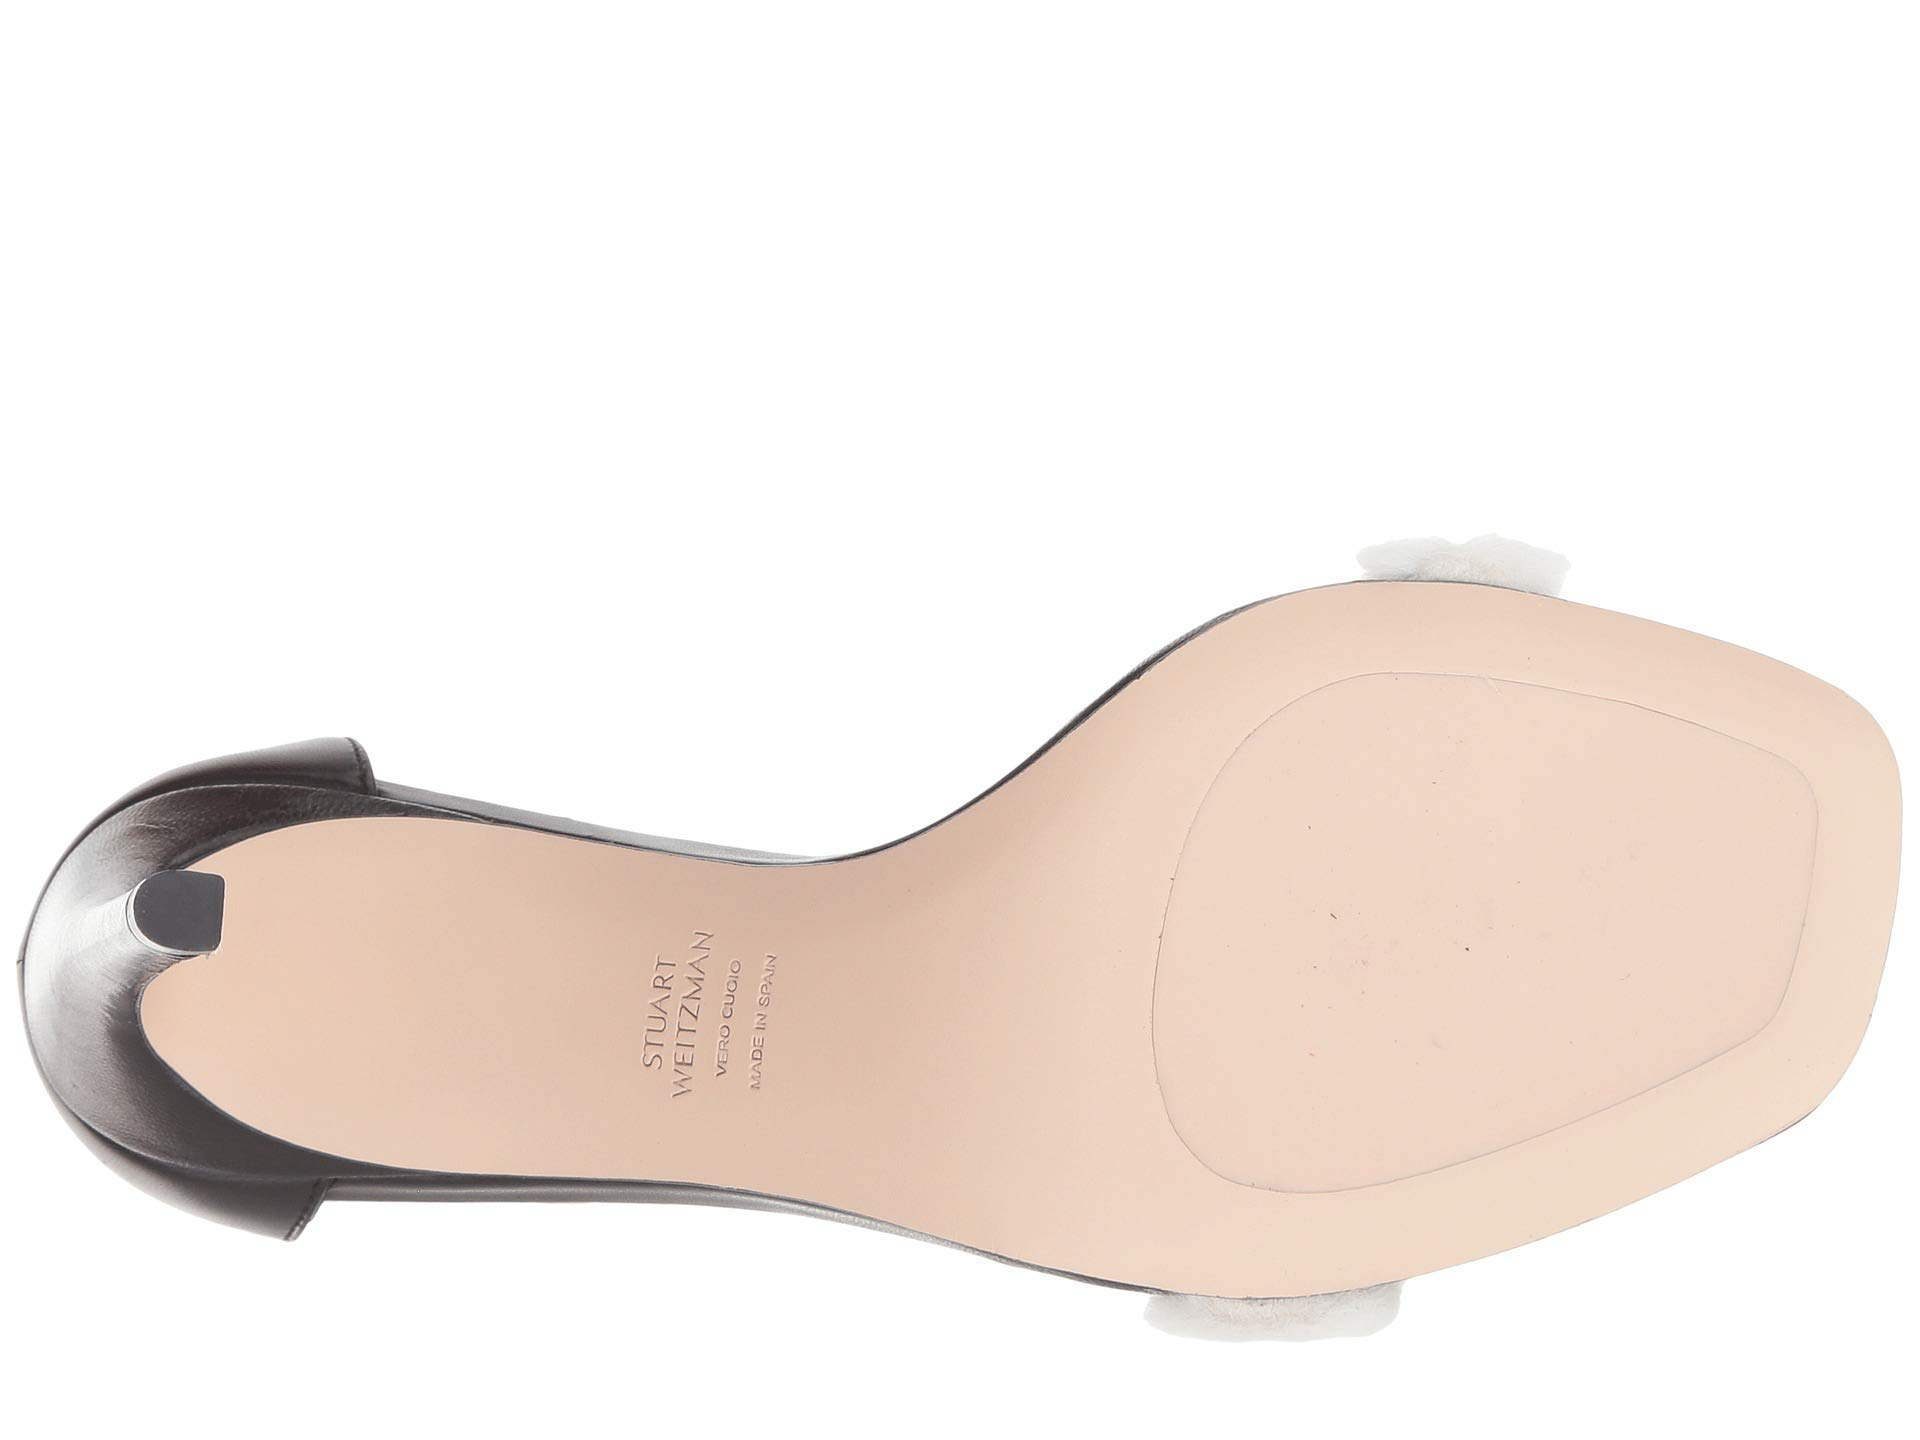exclude: (6, 632, 1147, 1287), (1114, 1277, 1412, 1358), (1333, 523, 1589, 597)
line: (1135, 750, 1258, 1196), (1350, 646, 1689, 743), (1367, 1103, 1559, 1225), (1761, 764, 1844, 1026)
